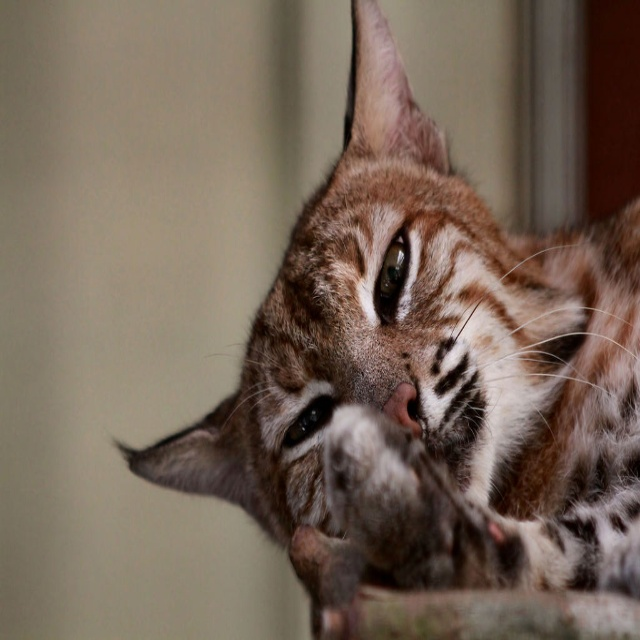Lynx: (107, 0, 640, 639)
